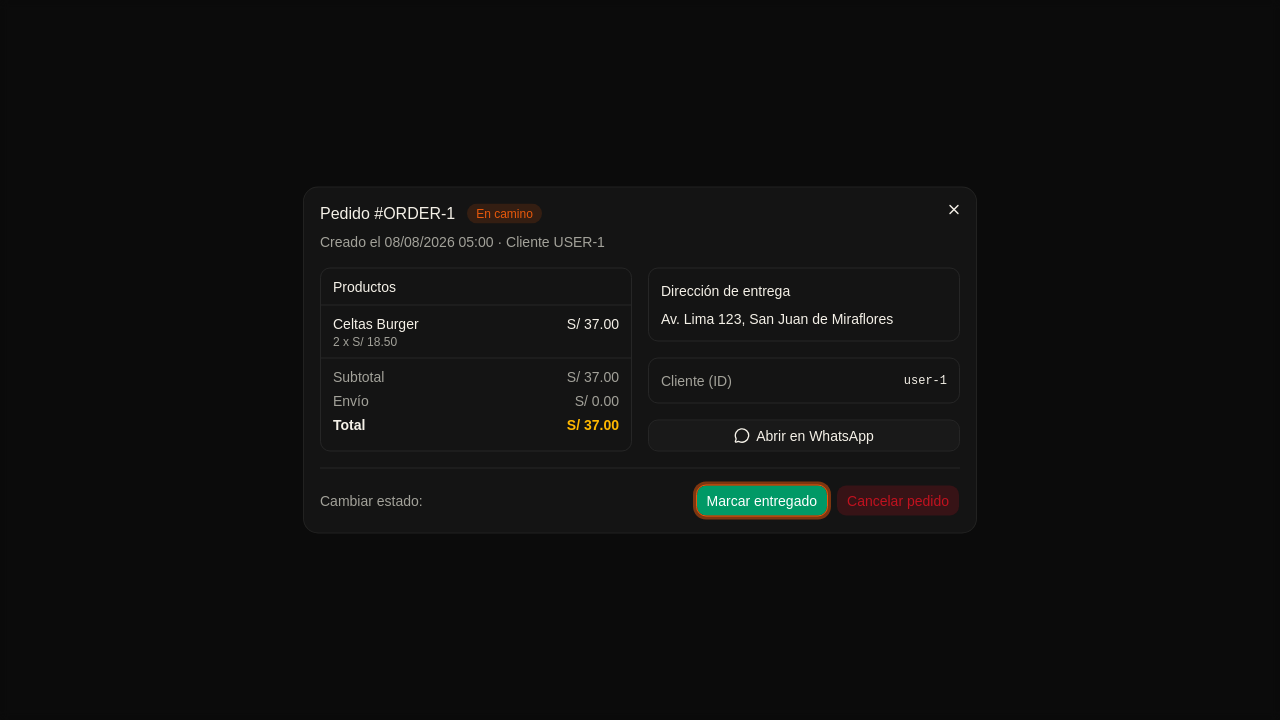
Test: OrderDetailDialog — cancelar pedido con motivo obligatorio › el botón de confirmar está deshabilitado con el motivo vacío y se habilita al escribir
Click the button "Cancelar pedido" at (898, 500), box [836,484,960,516]
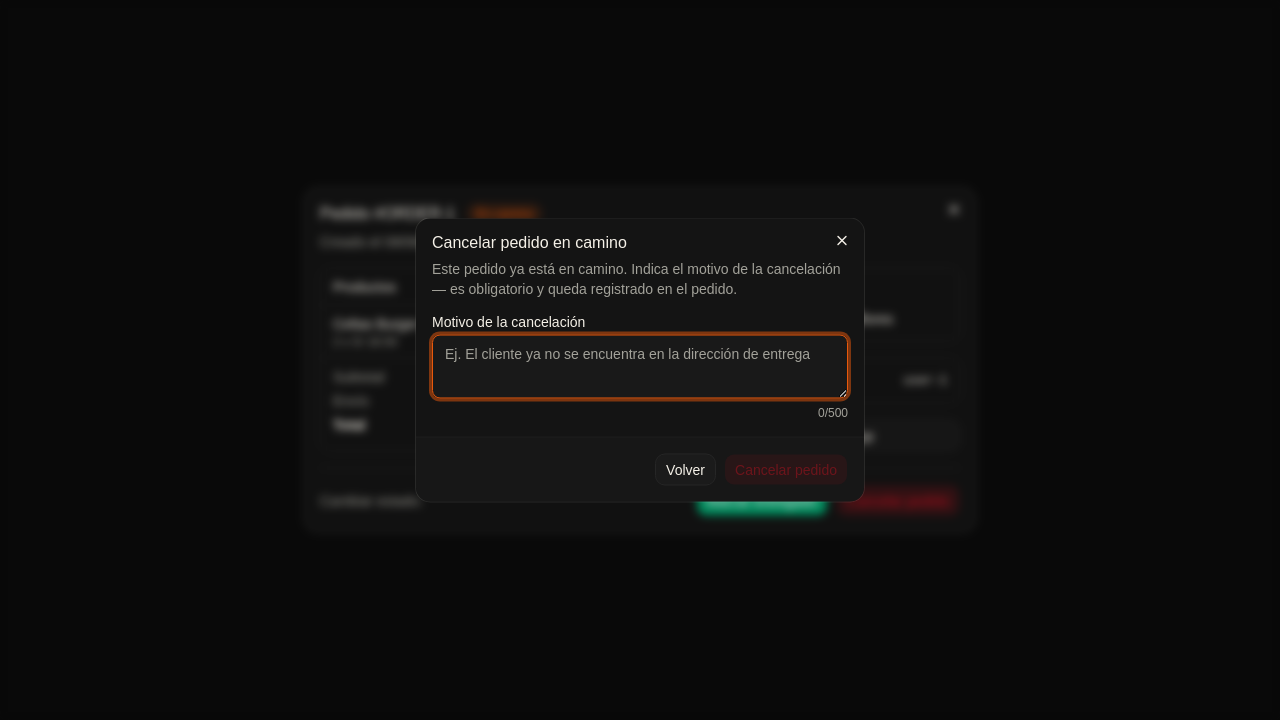
Expected: the button "Cancelar pedido" is disabled, [724,454,848,486]
Type "El cliente no responde" into the text box labelled "Motivo de la cancelación" at (640, 366), box [432,334,848,398]
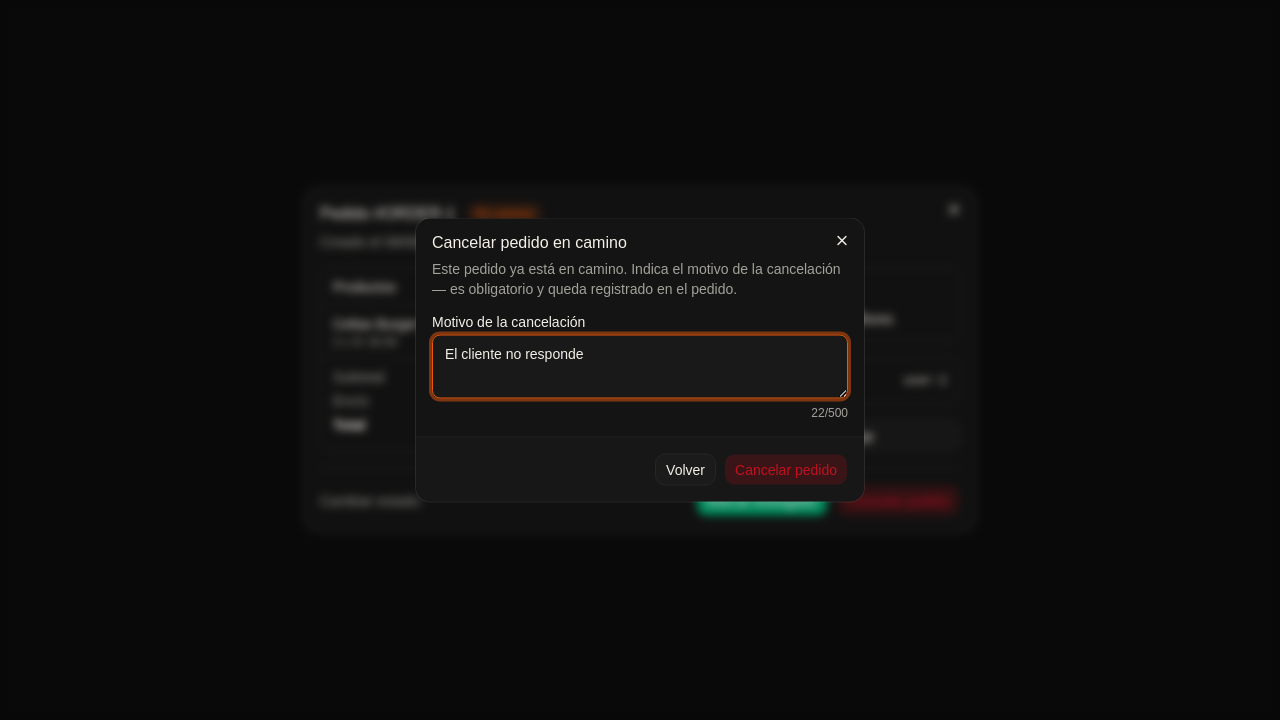
Expected: the button "Cancelar pedido" is enabled, [724,454,848,486]
